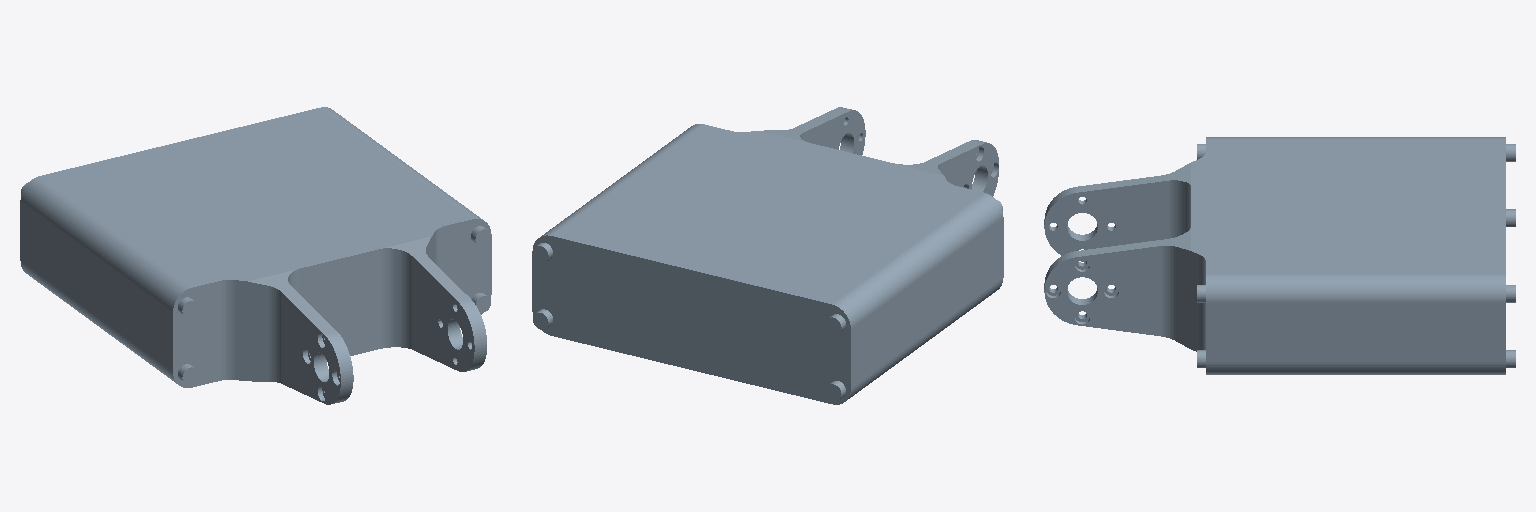
robot.urdf — sysID_XM430:
<?xml version="1.0" ?><robot name="sysID_XM430">  
  <link name="xm430">    
    <visual>      
      <origin xyz="0 0 0" rpy="0 -0 0"/>      
      <geometry>        
        <mesh filename="package:///meshes/xm430_visual.stl"/>        
      </geometry>      
      <material name="xm430_material">        
        <color rgba="0.64705882352941179736 0.64705882352941179736 0.64705882352941179736 1.0"/>        
      </material>      
    </visual>    
    <collision>      
      <origin xyz="0 0 0" rpy="0 -0 0"/>      
      <geometry>        
        <mesh filename="package:///meshes/xm430_collision.stl"/>        
      </geometry>      
    </collision>    
    <inertial>      
      <origin xyz="0.060324644876360043744 4.2778010964000801053e-05 0.0054193959459662060033" rpy="0 0 0"/>      
      <mass value="0.017849999999999997813"/>      
      <inertia ixx="4.6718410796497601784e-06" ixy="-1.7966582491276118102e-06" ixz="-4.6127237597421999479e-22" iyy="1.5261418896850629498e-05" iyz="-4.0828160524551003564e-24" izz="1.5277321486128431845e-05"/>      
    </inertial>    
  </link>  

  <link name="arm_430">    
    <visual>      
      <origin xyz="0 0 0" rpy="0 -0 0"/>      
      <geometry>        
        <mesh filename="package:///meshes/arm_430_visual.stl"/>        
      </geometry>      
      <material name="arm_430_material">        
        <color rgba="0.604714181969083997 0.66722689075630248201 0.72422035480859026091 1.0"/>        
      </material>      
    </visual>    
    <collision>      
      <origin xyz="0 0 0" rpy="0 -0 0"/>      
      <geometry>        
        <mesh filename="package:///meshes/arm_430_collision.stl"/>        
      </geometry>      
    </collision>    
    <inertial>      
      <origin xyz="-0.070000487132979419269 -1.7478457641755401719e-17 -0.019000000000000200756" rpy="0 0 0"/>      
      <mass value="0.094500000000000014544"/>      
      <inertia ixx="9.7686465200452811679e-05" ixy="-1.5627757876841841256e-19" ixz="-2.5453340064991725189e-19" iyy="0.00017605681504883924793" iyz="1.4663220283979688102e-16" izz="9.7562052053042674546e-05"/>      
    </inertial>    
  </link>  

  <joint name="joint_0" type="revolute">    
    <origin xyz="0.093000000000000013212 0.032699857927858892725 0.0055693959459662215755" rpy="-1.570796326794896558 2.7547408798512016148e-15 -1.5707963267948912289"/>    
    <parent link="xm430"/>    
    <child link="arm_430"/>    
    <axis xyz="0 0 1"/>    
    <limit effort="1" velocity="20" lower="-1.570796326794896558" upper="1.570796326794896558"/>    
    <joint_properties friction="0.0"/>    
  </joint>  


</robot>

--- Render facts (derived) ---
Views: 3 orthographic renders of the robot side by side, from view 1: azimuth 30°, elevation 25°; view 2: azimuth 150°, elevation 25°; view 3: azimuth 270°, elevation 25°.
Robot: sysID_XM430 — 2 links, 1 joints (1 revolute); root link xm430; default pose: all joints at 0.
Visible links, largest first — view 1: arm_430; view 2: arm_430; view 3: arm_430.
Link boxes in pixels (left/top/right/bottom): arm_430: left=20, top=107, right=491, bottom=404; arm_430: left=532, top=107, right=1003, bottom=404; arm_430: left=1044, top=137, right=1515, bottom=374.
Size in the robot's own frame: 0.1 by 0.13 by 0.03 metres.
Meshes: 2 distinct files referenced, 1 mesh visuals loaded (1 binary STL); not drawn: 1 (reference not matched to a file when rendering).